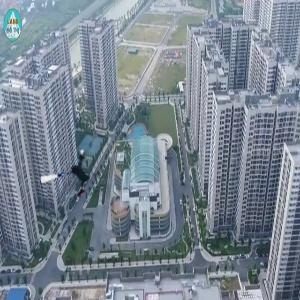drone: (41, 149, 106, 214)
